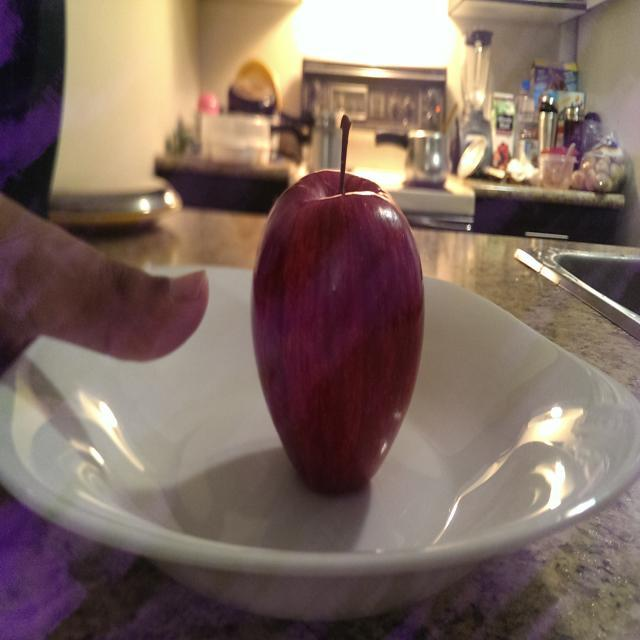Apple: (244, 104, 432, 500)
Finger: (97, 247, 213, 371)
